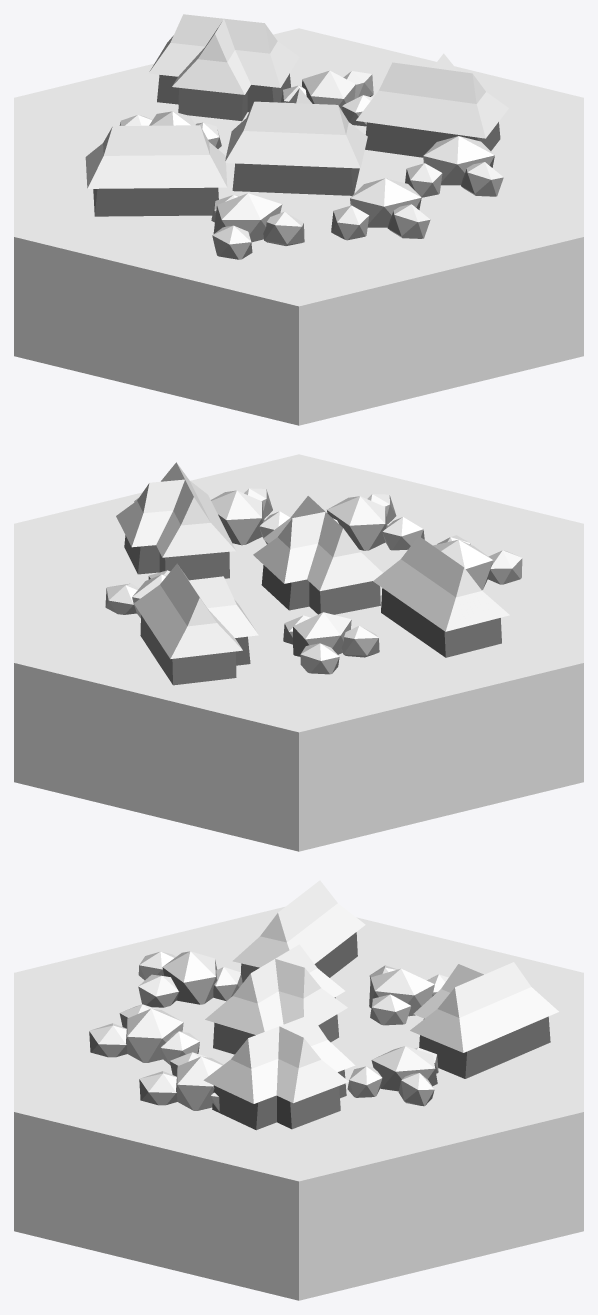
The model's file is Casas_Rocoso_Nieve_4.fbx.
3 views of the same model, one above another, from view 1: azimuth 30°, elevation 25°; view 2: azimuth 150°, elevation 25°; view 3: azimuth 270°, elevation 25° (orthographic).
Visible parts, largest first — view 1: Casas_Rocoso_Nieve_4; view 2: Casas_Rocoso_Nieve_4; view 3: Casas_Rocoso_Nieve_4.
Boxes of the visible parts, left/top/right/bottom form: Casas_Rocoso_Nieve_4: left=14, top=14, right=583, bottom=425; Casas_Rocoso_Nieve_4: left=14, top=454, right=583, bottom=851; Casas_Rocoso_Nieve_4: left=14, top=880, right=583, bottom=1300.
Size of the model in its own units: 200 by 65.63 by 173.
